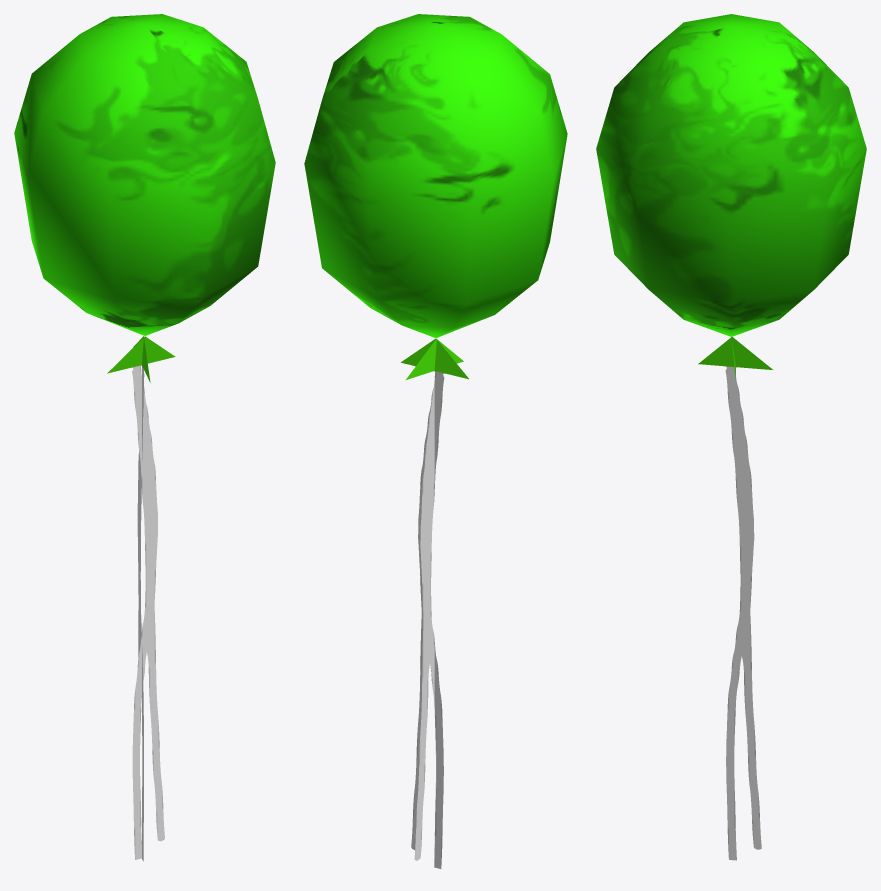
Rendered from Ballon03.fbx.
3 renders of one model, left to right at view 1: azimuth 30°, elevation 25°; view 2: azimuth 150°, elevation 25°; view 3: azimuth 270°, elevation 25°, orthographic.
Parts seen in each view (by area): view 1: Balloon03; view 2: Balloon03; view 3: Balloon03.
Boxes of the visible parts, x1,y1,x2,y2 form: Balloon03: (14,14,275,861); Balloon03: (304,14,567,868); Balloon03: (596,14,866,860).
Bounding box in the file's own units: 0.1017 × 0.3468 × 0.1017.
